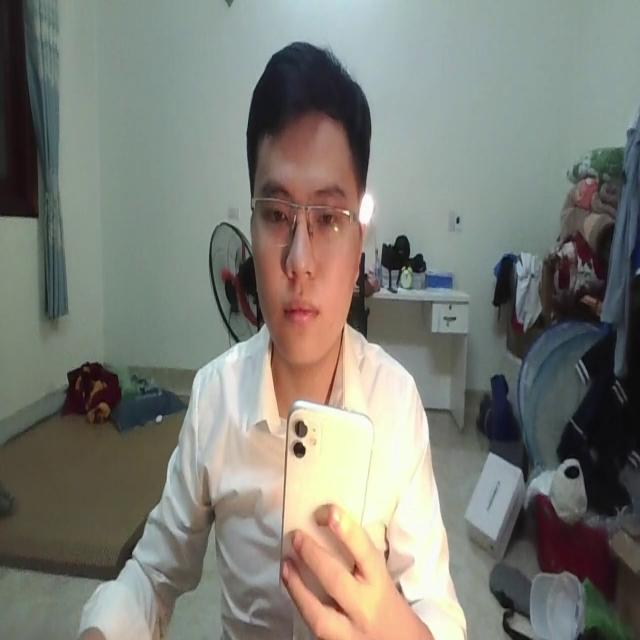phone: (276, 392, 374, 598)
student: (69, 37, 467, 640)
